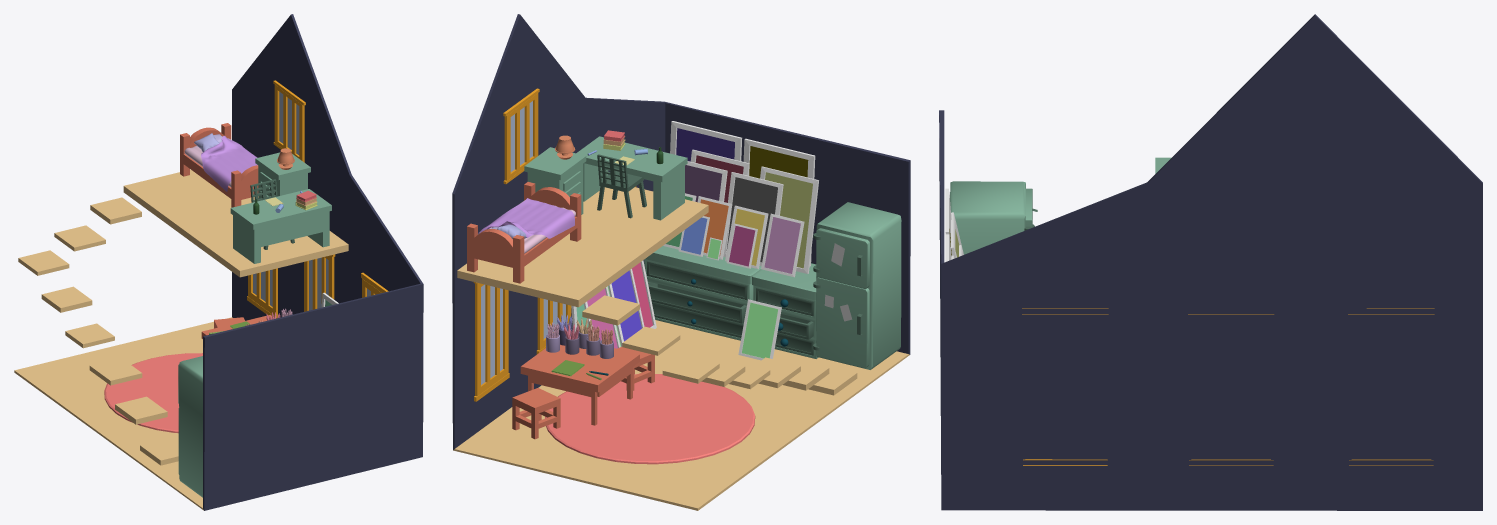
The model's file is мастерская внутри.fbx.
3 renders of one model, left to right at view 1: azimuth 30°, elevation 25°; view 2: azimuth 150°, elevation 25°; view 3: azimuth 270°, elevation 25°, orthographic. The views are drawn at different scales.
Visible parts, largest first — view 1: Cube.002, Plane, Cube.030, Carpet 1, Cube.024, Cube.020, Plane.010, Plane.001, Cube.015, Plane.012, Plane.013, Plane.008 (+8 smaller); view 2: Cube.002, Carpet 1, Cube.024, Plane, Bedside table 1.001, Cube.018, Bedside table 1, Cube.020, Cube.030, Plane.013, Picture 1.008, Plane.010 (+28 smaller); view 3: Cube.002, Cube.024.
Part boxes in pixels (x1=…): Cube.002: x1=14, y1=14, x2=423, y2=510; Plane: x1=123, y1=169, x2=348, y2=277; Cube.030: x1=230, y1=189, x2=331, y2=263; Carpet 1: x1=104, y1=353, x2=202, y2=433; Cube.024: x1=178, y1=356, x2=202, y2=497; Cube.020: x1=180, y1=123, x2=258, y2=207; Plane.010: x1=273, y1=80, x2=305, y2=162; Plane.001: x1=201, y1=136, x2=257, y2=191; Cube.015: x1=255, y1=152, x2=310, y2=198; Plane.012: x1=304, y1=254, x2=335, y2=311; Plane.013: x1=247, y1=268, x2=277, y2=318; Plane.008: x1=115, y1=396, x2=167, y2=424; Cube.002: x1=452, y1=14, x2=910, y2=510; Carpet 1: x1=545, y1=374, x2=755, y2=464; Cube.024: x1=813, y1=202, x2=901, y2=369; Plane: x1=457, y1=187, x2=708, y2=307; Bedside table 1.001: x1=644, y1=246, x2=761, y2=340; Cube.018: x1=520, y1=344, x2=639, y2=425; Bedside table 1: x1=752, y1=263, x2=818, y2=358; Cube.020: x1=467, y1=182, x2=581, y2=283; Cube.030: x1=576, y1=136, x2=687, y2=220; Plane.013: x1=473, y1=282, x2=509, y2=401; Picture 1.008: x1=760, y1=166, x2=818, y2=273; Plane.010: x1=503, y1=88, x2=539, y2=184; Cube.002: x1=939, y1=14, x2=1482, y2=510; Cube.024: x1=950, y1=181, x2=1037, y2=254.
Bounding box in the file's own units: 808 × 1222 × 1212.
